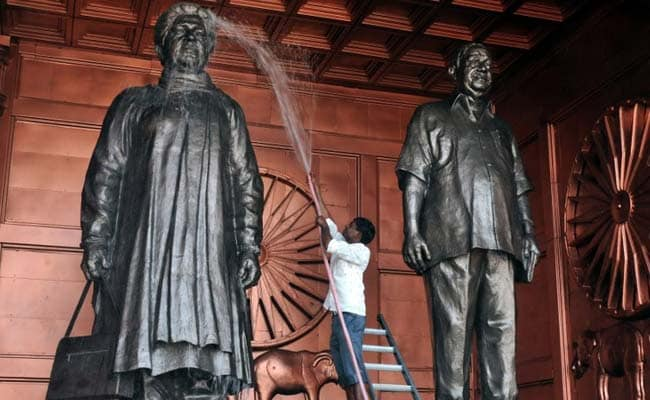person: (314, 208, 380, 400)
person-like: (76, 6, 269, 400), (392, 38, 541, 399)
